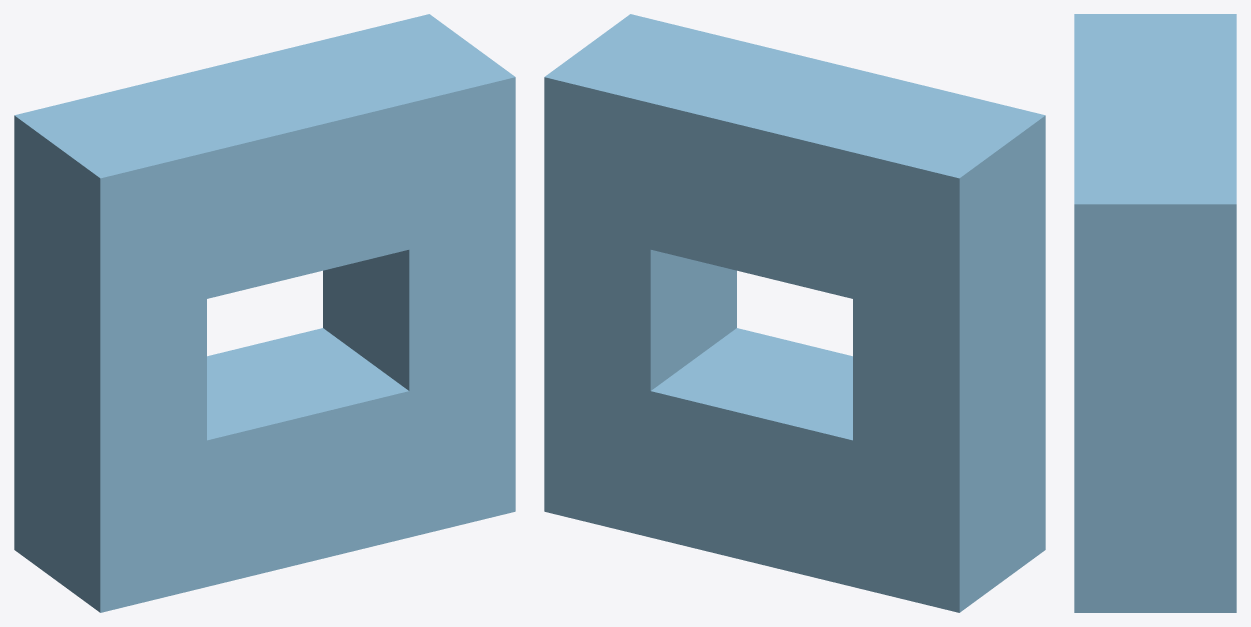
The model's file is factory_rectangular_hole_12mm_subdiv_3x.obj.
3 views of the same model, side by side, from view 1: azimuth 30°, elevation 25°; view 2: azimuth 150°, elevation 25°; view 3: azimuth 270°, elevation 25° (orthographic). The views are drawn at different scales.
Parts seen in each view (by area): view 1: mesh4, mesh2, mesh1, mesh9, mesh6; view 2: mesh5, mesh2, mesh1, mesh9, mesh6; view 3: mesh0, mesh1.
Part boxes in pixels (<box>): mesh4: <box>100,77,515,612</box>; mesh2: <box>14,115,100,612</box>; mesh1: <box>15,14,515,178</box>; mesh9: <box>207,328,408,440</box>; mesh6: <box>323,250,409,390</box>; mesh5: <box>544,77,959,612</box>; mesh2: <box>959,115,1045,612</box>; mesh1: <box>544,14,1044,178</box>; mesh9: <box>651,328,852,440</box>; mesh6: <box>650,250,736,390</box>; mesh0: <box>1074,204,1236,612</box>; mesh1: <box>1074,14,1236,204</box>.
Bounding box in the file's own units: 0.025 × 0.025 × 0.00899.
